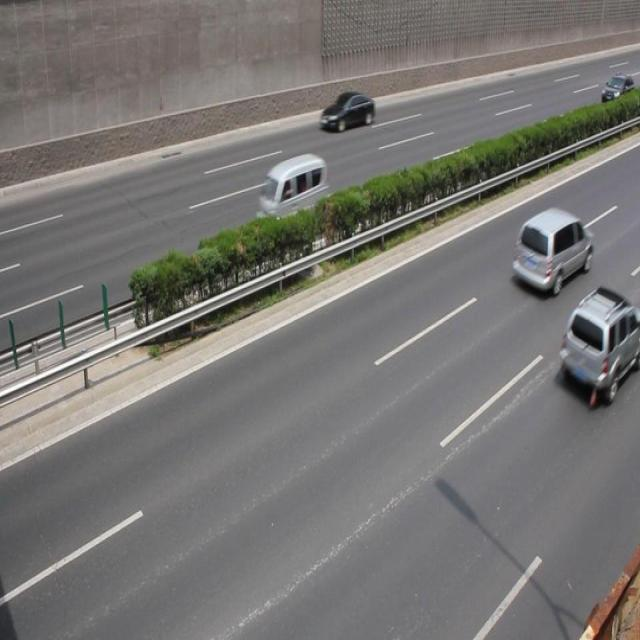car: (558, 287, 640, 402), (318, 91, 375, 133), (598, 74, 640, 112)
truck: (510, 208, 593, 295), (256, 154, 329, 237)
